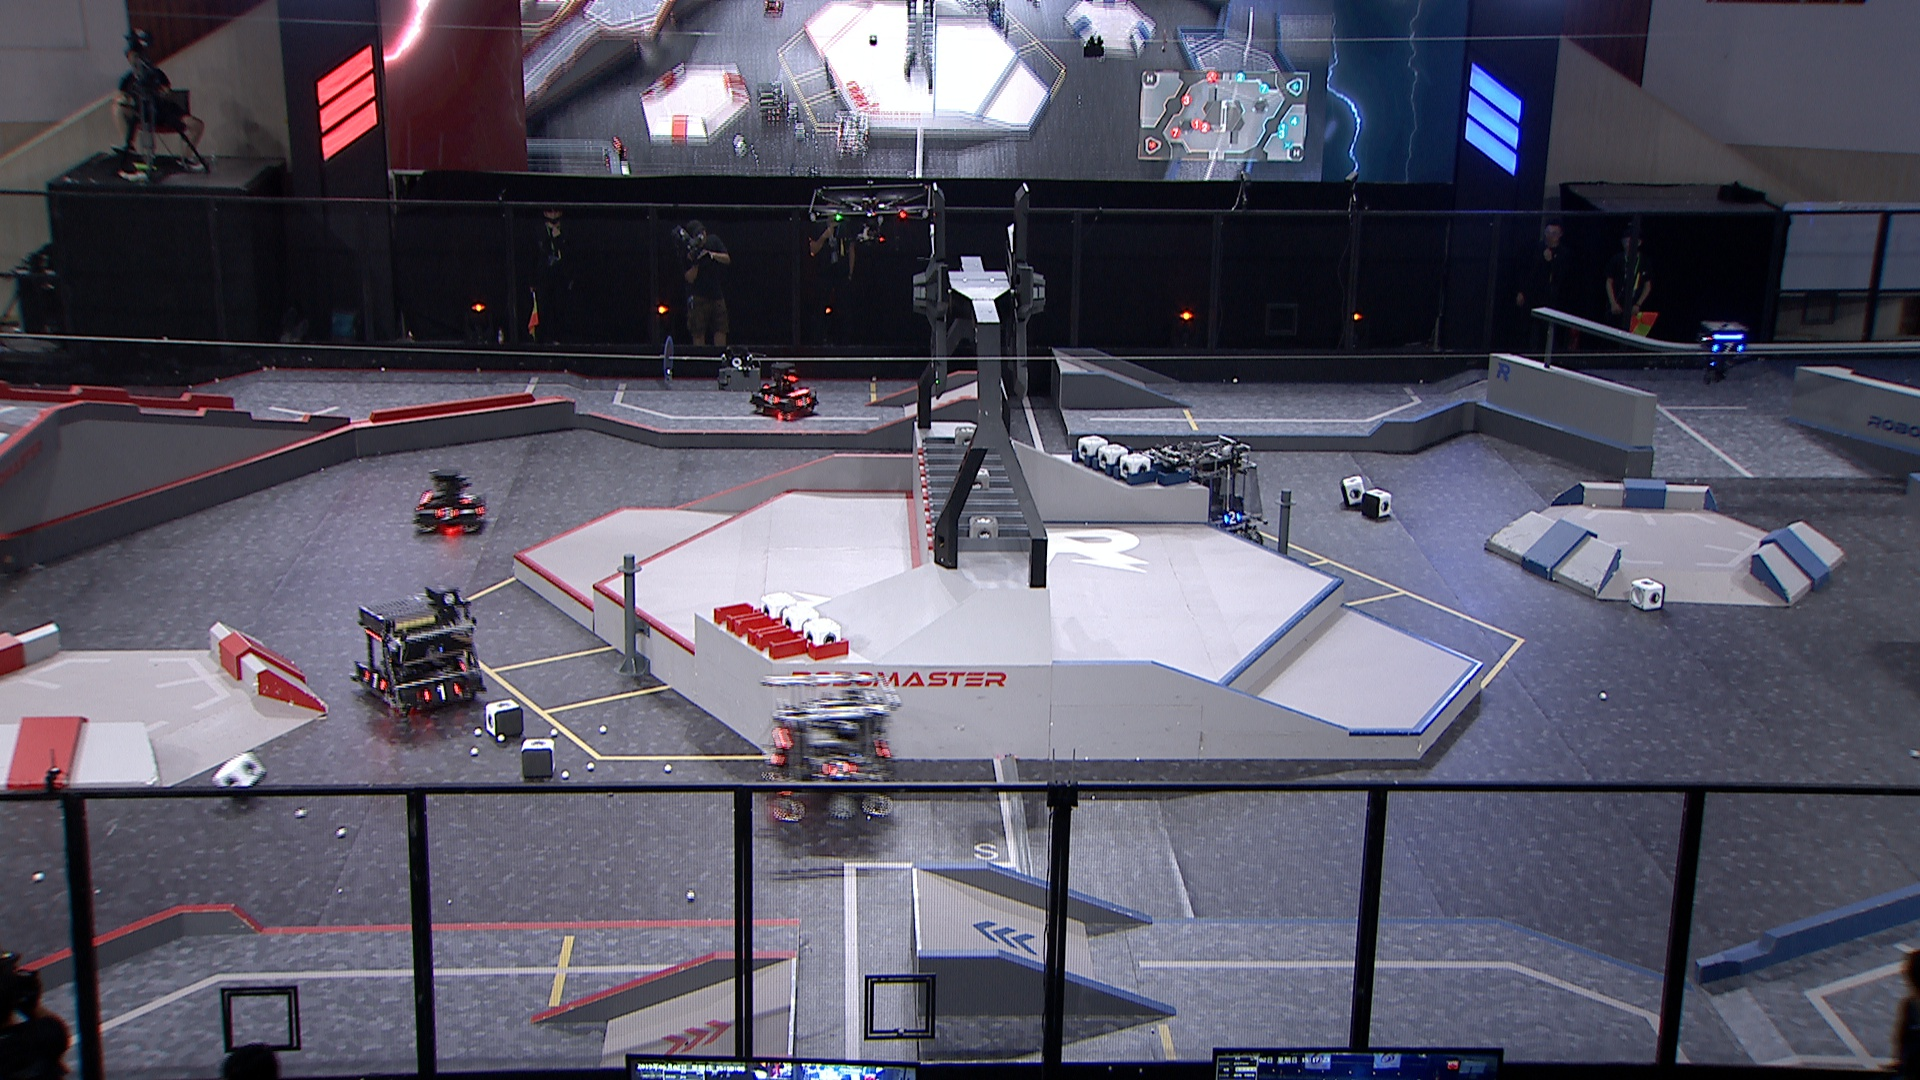armor: (425, 680, 462, 705), (822, 760, 858, 781), (363, 669, 389, 694), (1712, 342, 1745, 356), (434, 505, 462, 522), (1222, 509, 1244, 527), (764, 392, 782, 407), (458, 493, 477, 505), (793, 396, 812, 407)
car: (760, 669, 903, 825), (353, 582, 489, 721), (1155, 433, 1269, 551), (415, 467, 487, 534), (749, 361, 820, 419)
ignore: (832, 112, 872, 161), (760, 83, 790, 127), (603, 138, 632, 173), (973, 0, 1006, 29), (764, 0, 785, 18)
watcher: (1698, 320, 1747, 386)
